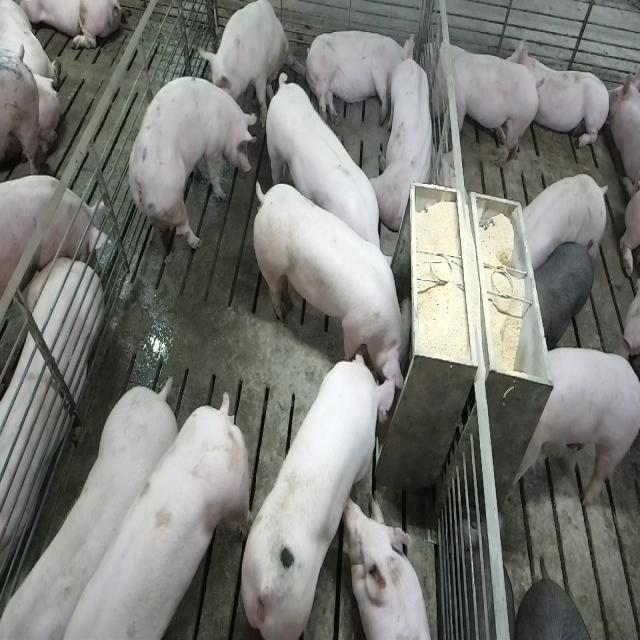Feeding: (236, 349, 399, 635), (256, 176, 419, 407)
Lateral_lying: (0, 254, 101, 603), (303, 28, 415, 127)
Sitting: (199, 2, 293, 131)
Standing: (47, 392, 250, 640), (0, 379, 175, 640), (262, 71, 394, 289), (122, 77, 254, 263), (507, 346, 638, 508), (422, 30, 541, 168), (0, 174, 107, 310), (512, 173, 609, 272), (530, 238, 598, 346)
Sternal_lying: (348, 494, 434, 640), (512, 32, 612, 155), (374, 49, 438, 232)
